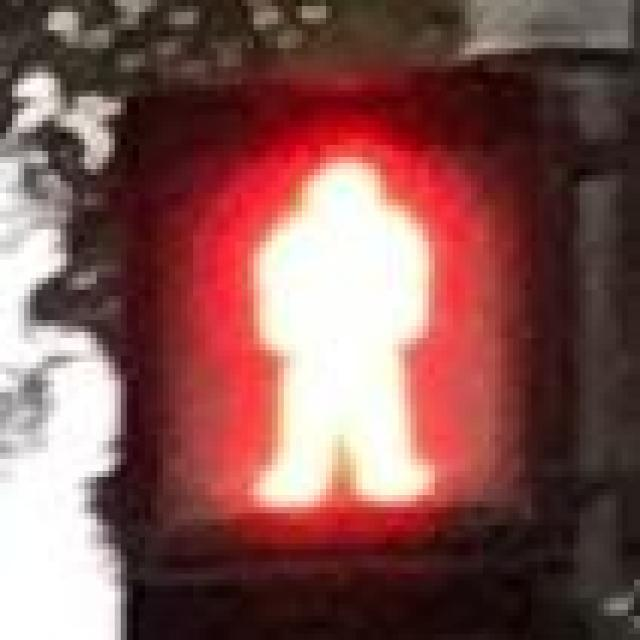red_light: (126, 102, 502, 532)
